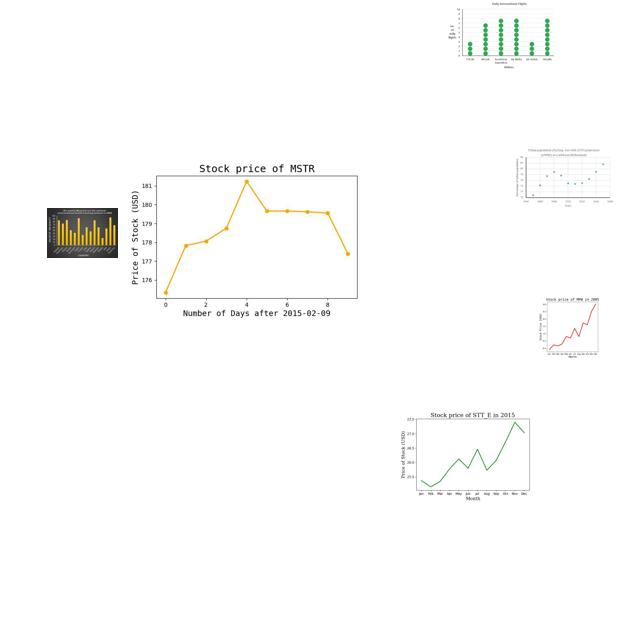Graph: (124, 139, 383, 333), (398, 399, 544, 509), (447, 1, 554, 69), (514, 147, 614, 208), (528, 294, 615, 359), (47, 208, 118, 258)
